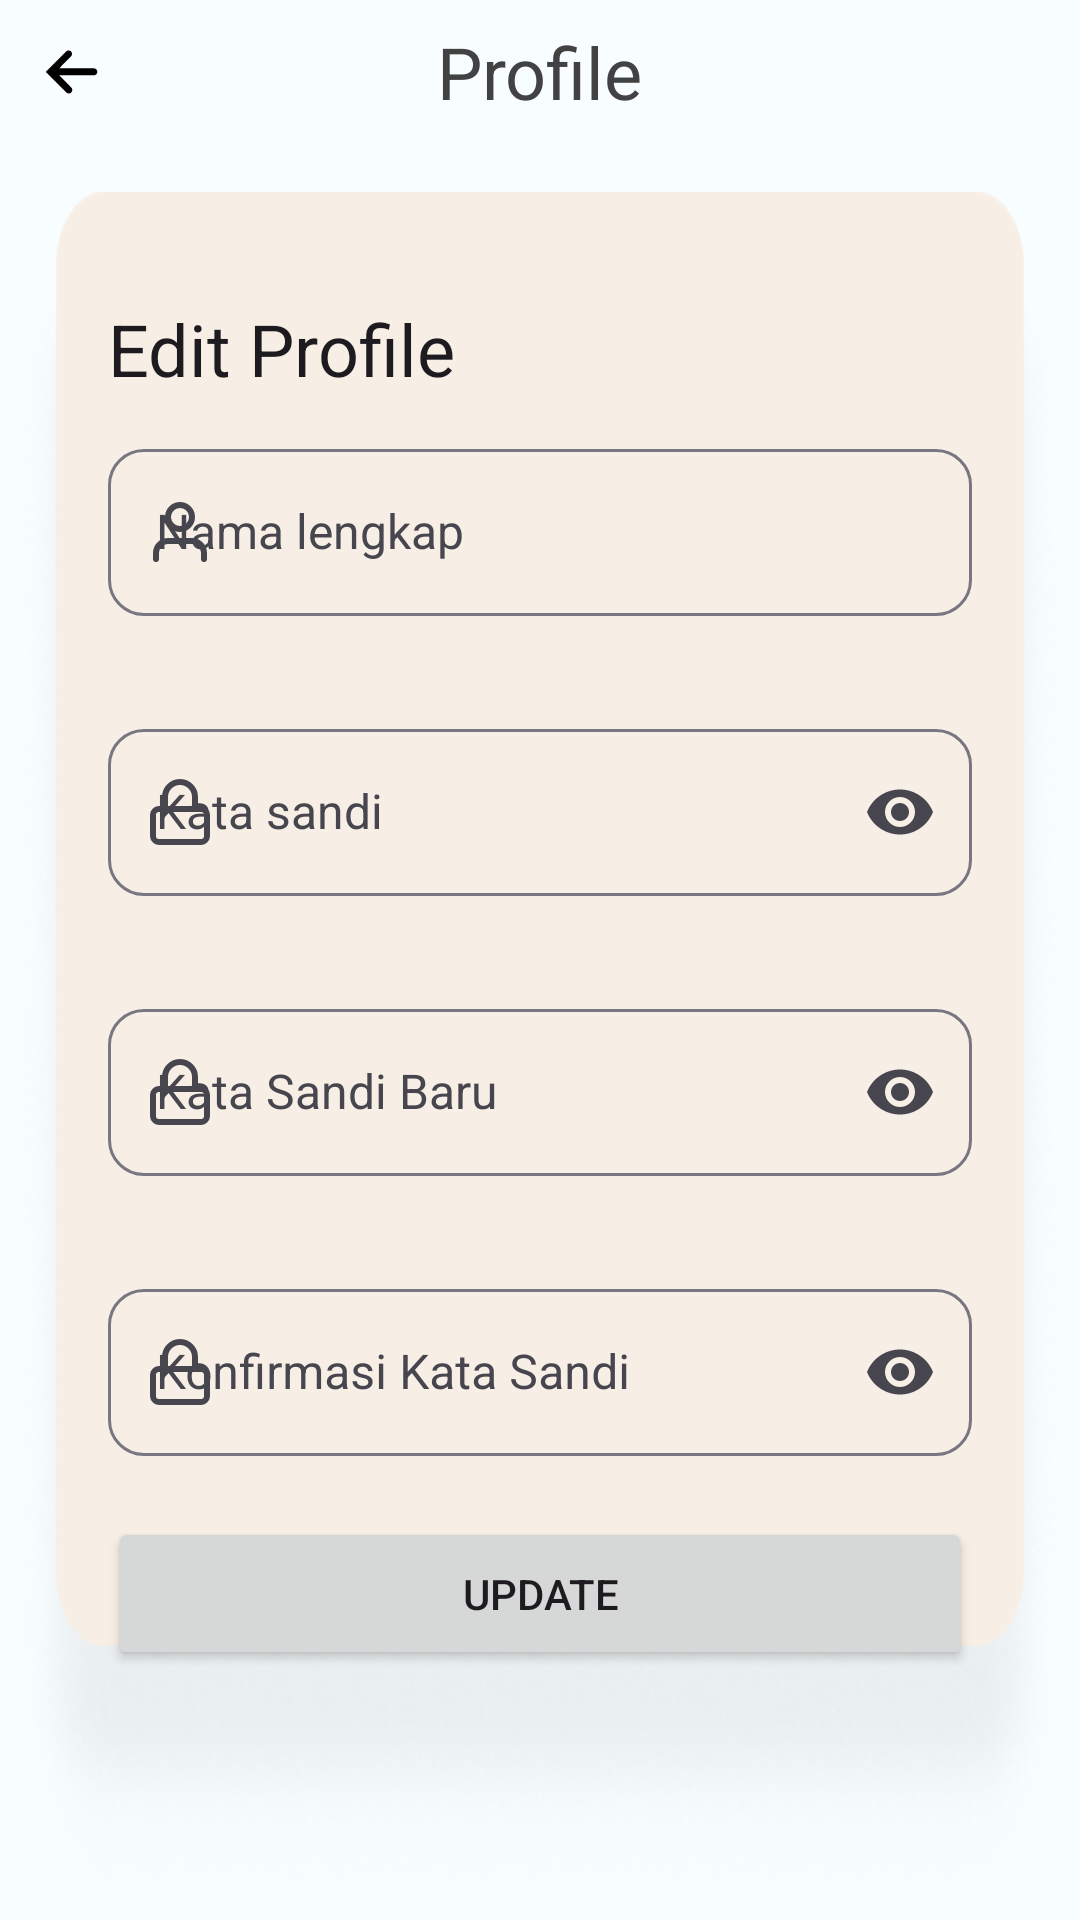

Point at icon controls on the screen. Image size 1080px x 1920px, points as point (x, y).
Kembali ke Getting Started: point (72, 72)
